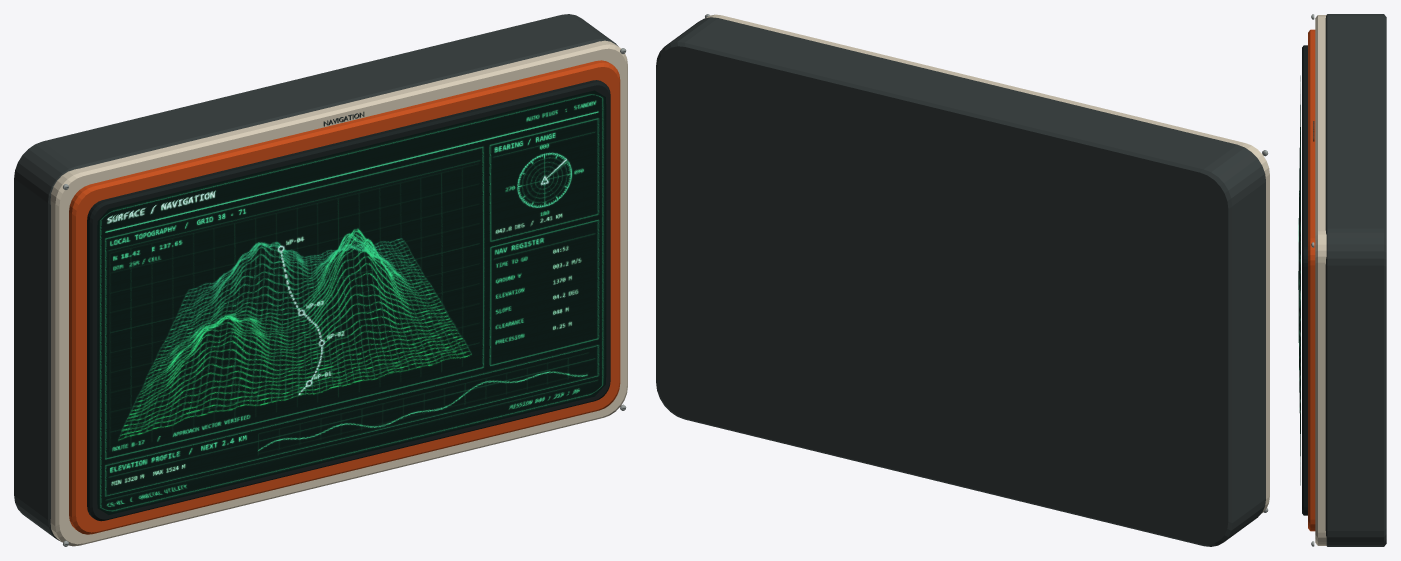
Rendered from Screen_NAVIGATION.glb.
The picture shows the model from 3 angles, left to right: view 1: azimuth 30°, elevation 25°; view 2: azimuth 150°, elevation 25°; view 3: azimuth 270°, elevation 25°; orthographic projection. The views are drawn at different scales.
Parts seen in each view (by area): view 1: SCREEN_NAVIGATION.004, NAVIGATION_Body.004, NAVIGATION_SafetyOrange.004, NAVIGATION_Enamel.004, NAVIGATION_RubberSeal.004; view 2: NAVIGATION_Body.004, NAVIGATION_Enamel.004; view 3: NAVIGATION_Body.004, NAVIGATION_Enamel.004, NAVIGATION_SafetyOrange.004, NAVIGATION_RubberSeal.004, SCREEN_NAVIGATION.004.
Boxes of the visible parts, left/top/right/bottom form: SCREEN_NAVIGATION.004: left=97, top=90, right=606, bottom=514; NAVIGATION_Body.004: left=14, top=14, right=618, bottom=541; NAVIGATION_SafetyOrange.004: left=69, top=60, right=620, bottom=534; NAVIGATION_Enamel.004: left=50, top=40, right=627, bottom=546; NAVIGATION_RubberSeal.004: left=87, top=80, right=610, bottom=521; NAVIGATION_Body.004: left=656, top=17, right=1265, bottom=546; NAVIGATION_Enamel.004: left=705, top=14, right=1269, bottom=513; NAVIGATION_Body.004: left=1325, top=14, right=1386, bottom=546; NAVIGATION_Enamel.004: left=1315, top=15, right=1326, bottom=545; NAVIGATION_SafetyOrange.004: left=1308, top=29, right=1315, bottom=531; NAVIGATION_RubberSeal.004: left=1302, top=45, right=1307, bottom=515; SCREEN_NAVIGATION.004: left=1298, top=75, right=1300, bottom=485.
Bounding box in the file's own units: 0.906 × 0.566 × 0.143.
Materials: 7 (1 with a texture image).
